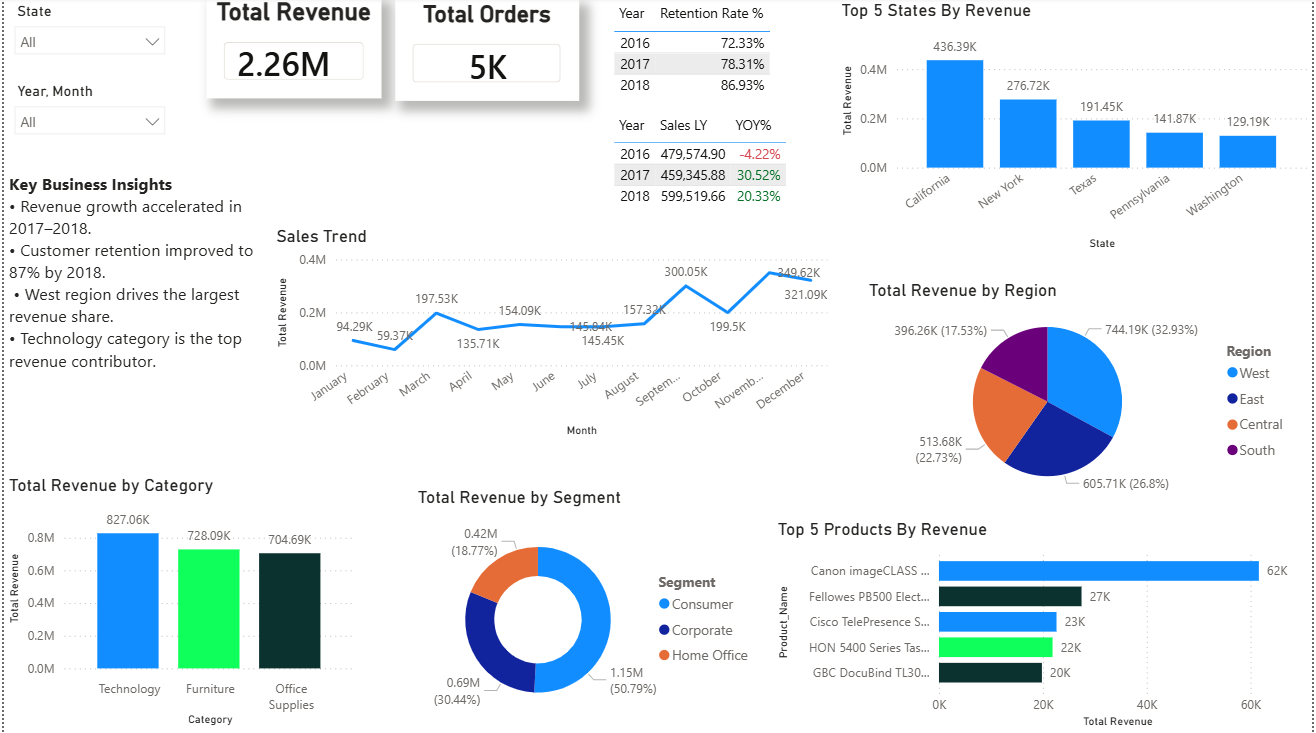

The dashboard page shown, as its layout file describes it:
{"tool":"powerbi","page":{"name":"Page 1","canvas":[1280,720],"ordinal":0},"visuals":[{"type":"cardVisual","title":"Total Revenue","fields":{"Data":["Customers.Total Revenue"]},"box":[167.5,0,184.6,99],"z":0},{"type":"cardVisual","title":"Total Orders","fields":{"Data":["Customers.TotalOrders"]},"box":[352.2,0,201.8,97.8],"z":1000},{"type":"slicer","fields":{"Values":["Customers.State"]},"box":[0,0,167.5,80.7],"z":2000},{"type":"slicer","fields":{"Values":["DimDate.Year","DimDate.Month"]},"box":[0,78.3,167.5,59.9],"z":3000},{"type":"barChart","title":"Top 5 Products By Revenue","fields":{"Category":["Products.Product_Name"],"Y":["Customers.Total Revenue"]},"box":[805.8,503.8,474.5,216.4],"z":4000},{"type":"lineChart","title":"Sales Trend","fields":{"Y":["Customers.Total Revenue"],"Category":["DimDate.Month","DimDate.Date.Variation.Date Hierarchy.Quarter","DimDate.Year"]},"box":[240.9,261.7,639.5,195.7],"z":5000},{"type":"donutChart","fields":{"Category":["Customers.Segment"],"Y":["Customers.Total Revenue"]},"box":[399.9,519.7,362,200.5],"z":6000},{"type":"clusteredColumnChart","title":"Top 5 States By Revenue","fields":{"Category":["Customers.State"],"Y":["Customers.Total Revenue"]},"box":[819.3,0,461,234.8],"z":7000},{"type":"columnChart","fields":{"Category":["Products.Category"],"Y":["Customers.Total Revenue"]},"box":[0,481.6,387,238.8],"z":8000},{"type":"pieChart","fields":{"Category":["Customers.Region"],"Y":["Customers.Total Revenue"]},"box":[893.9,261.7,386.4,195.7],"z":9000},{"type":"tableEx","fields":{"Values":["DimDate.Year","Customers.Sales LY","Customers.YOY%"]},"box":[577.2,118.6,203,116.2],"z":10000},{"type":"textbox","box":[0,176.1,214,205.4],"z":10001},{"type":"tableEx","fields":{"Values":["DimDate.Date.Variation.Date Hierarchy.Year","Customers.Retention Rate %"]},"box":[598,0,207.9,108.8],"z":10002}]}

Visuals, with their boxes in screenshot pixels (x1, y1, x2, y2), scaled from the page's 1280x720 canvas onto the 1316x733 screenshot:
"Total Revenue" cardVisual: 172:0:362:101
"Total Orders" cardVisual: 362:0:570:100
slicer - Customers.State: 0:0:172:82
slicer - DimDate.Year x DimDate.Month: 0:80:172:141
"Top 5 Products By Revenue" barChart: 828:513:1315:732
"Sales Trend" lineChart: 248:266:905:466
donutChart - Customers.Segment x Customers.Total Revenue: 411:529:783:732
"Top 5 States By Revenue" clusteredColumnChart: 842:0:1315:239
columnChart - Products.Category x Customers.Total Revenue: 0:490:398:732
pieChart - Customers.Region x Customers.Total Revenue: 919:266:1315:466
tableEx - DimDate.Year x Customers.Sales LY: 593:121:802:239
textbox: 0:179:220:388
tableEx - DimDate.Date.Variation.Date Hierarchy.Year x Customers.Retention Rate %: 615:0:829:111
